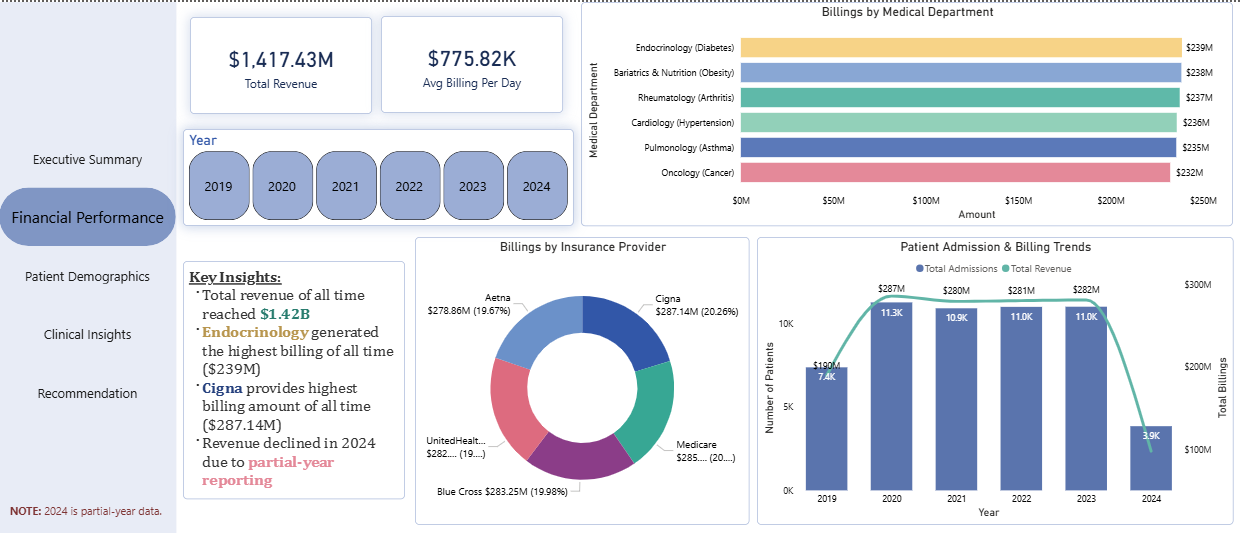

Layout of this report page (visuals, bound fields, positions):
{"tool":"powerbi","page":{"name":"Financial Performance","canvas":[1680,720],"ordinal":1},"visuals":[{"type":"group","id":"g1","title":"Group 2","box":[0,0,239.7,775],"z":0},{"type":"shape","box":[0,0,239.7,775],"z":0,"group":"g1"},{"type":"card","fields":{"Values":["_Measures.Total Billing"]},"box":[258.1,20.3,245.9,131.1],"z":1000},{"type":"pageNavigator","box":[0,172.1,239.7,395.6],"z":1000,"group":"g1"},{"type":"lineStackedColumnComboChart","title":"Patient Admission & Billing Trends","fields":{"Y":["_Measures.Total Admissions"],"Y2":["_Measures.Total Billing"],"Category":["calendar_table.Year","calendar_table.Month"]},"box":[1023.9,316.9,643.7,388.7],"z":2000},{"type":"card","fields":{"Values":["_Measures.Avg Billing Per Day"]},"box":[516.2,19.1,245.6,130.9],"z":3000},{"type":"donutChart","title":"Billings by Insurance Provider","fields":{"Category":["fact_table.Insurance Provider"],"Y":["_Measures.Total Billing"]},"box":[562,316.9,452.1,388.7],"z":4000},{"type":"barChart","title":"Billings by Medical Department","fields":{"Y":["_Measures.Total Billing"],"Category":["medics_table.Medical Department"]},"box":[786.5,0,881.1,302.7],"z":5000},{"type":"advancedSlicerVisual","fields":{"Values":["calendar_table.Year"]},"box":[248.6,171.6,528.4,131.1],"z":6000},{"type":"textbox","box":[9.5,671.6,220.3,33.8],"z":7000},{"type":"textbox","box":[248.6,350,300,321.6],"z":8000}]}

Visuals, with their boxes in screenshot pixels (x1, y1, x2, y2), scaled from the page's 1680x720 canvas onto the 1240x533 screenshot:
"Group 2" group: (0,0,177,532)
shape: (0,0,177,532)
card - _Measures.Total Billing: (191,15,372,112)
pageNavigator: (0,127,177,420)
"Patient Admission & Billing Trends" lineStackedColumnComboChart: (756,235,1231,522)
card - _Measures.Avg Billing Per Day: (381,14,562,111)
"Billings by Insurance Provider" donutChart: (415,235,749,522)
"Billings by Medical Department" barChart: (581,0,1231,224)
advancedSlicerVisual - calendar_table.Year: (183,127,574,224)
textbox: (7,497,170,522)
textbox: (183,259,405,497)
